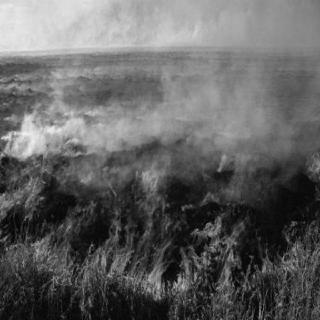Smoke: (22, 119, 32, 153)
